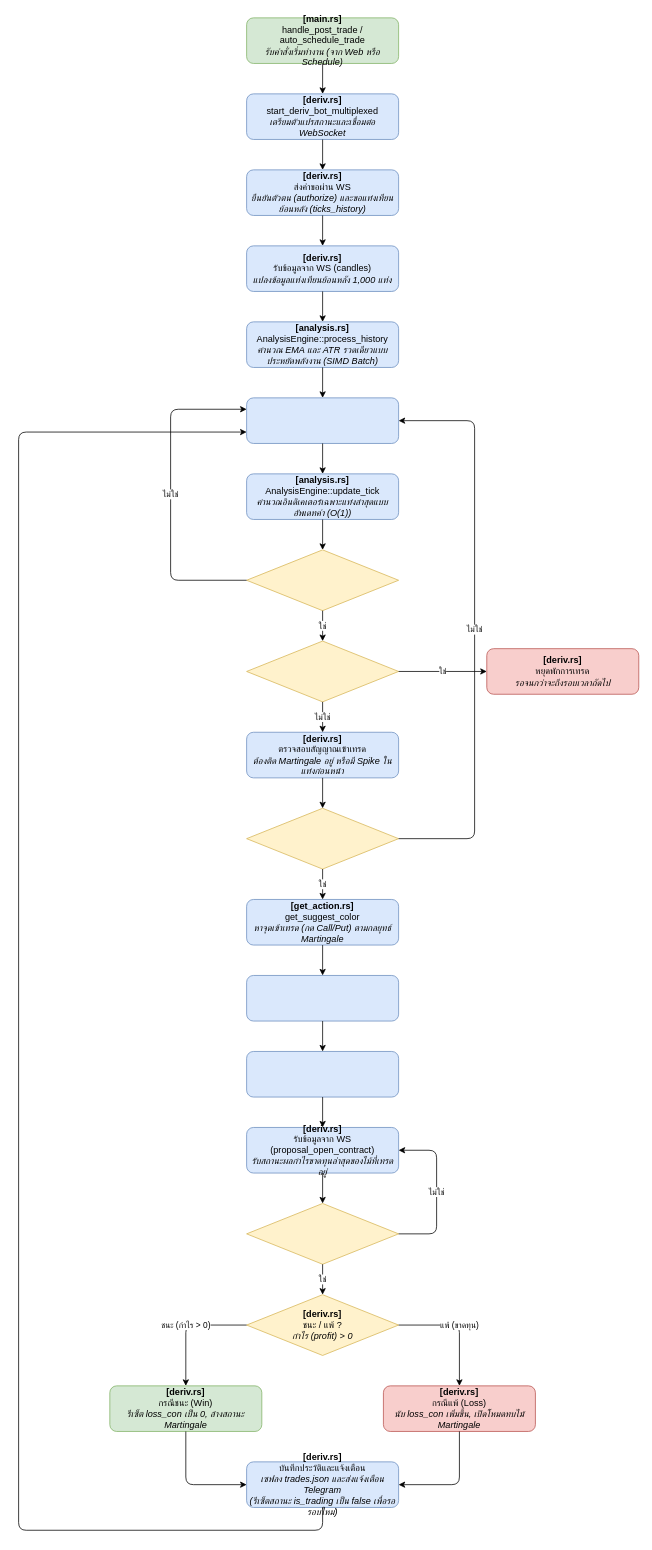
The diagram is 652 pixels wide and 1550 high, and some of its shapes have lost their labels. Each missing label, with the centre of its shape:
"[deriv.rs] ขึ้นแท่งเทียนใหม่? และไม่ได้เทรดค้างอยู่?" belongs at point 322,580.
"[deriv.rs] ปิดไม้แล้วหรือยัง? is_sold == 1 หรือ status สรุปผลแล้ว" belongs at point 322,1233.
"[deriv.rs] รับข้อมูลจาก WS (buy) บันทึก contract_id และติดตามสถานะไม้ที่เปิดอยู่" belongs at point 322,1074.
"[deriv.rs] รับข้อมูลจาก WS (ohlc) รับข้อมูลราคาสดๆ ทุกๆ 1 วินาที" belongs at point 322,420.
"[deriv.rs] ส่งคำขอผ่าน WS (buy) ยิงคำสั่งซื้อ (Buy Contract)" belongs at point 322,998.
"[deriv.rs] เข้าเงื่อนไขเทรดหรือไม่?" belongs at point 322,838.
"[deriv.rs] เลยเวลาปิดรอบ? และไม่ได้ติด Martingale?" belongs at point 322,671.
